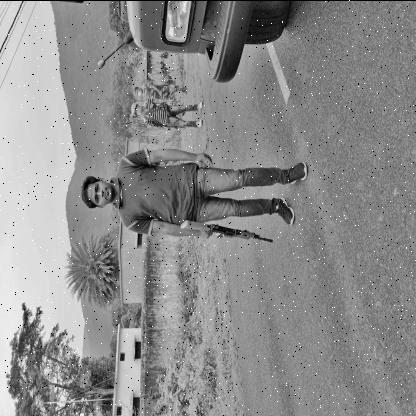rifle: (180, 218, 274, 244)
